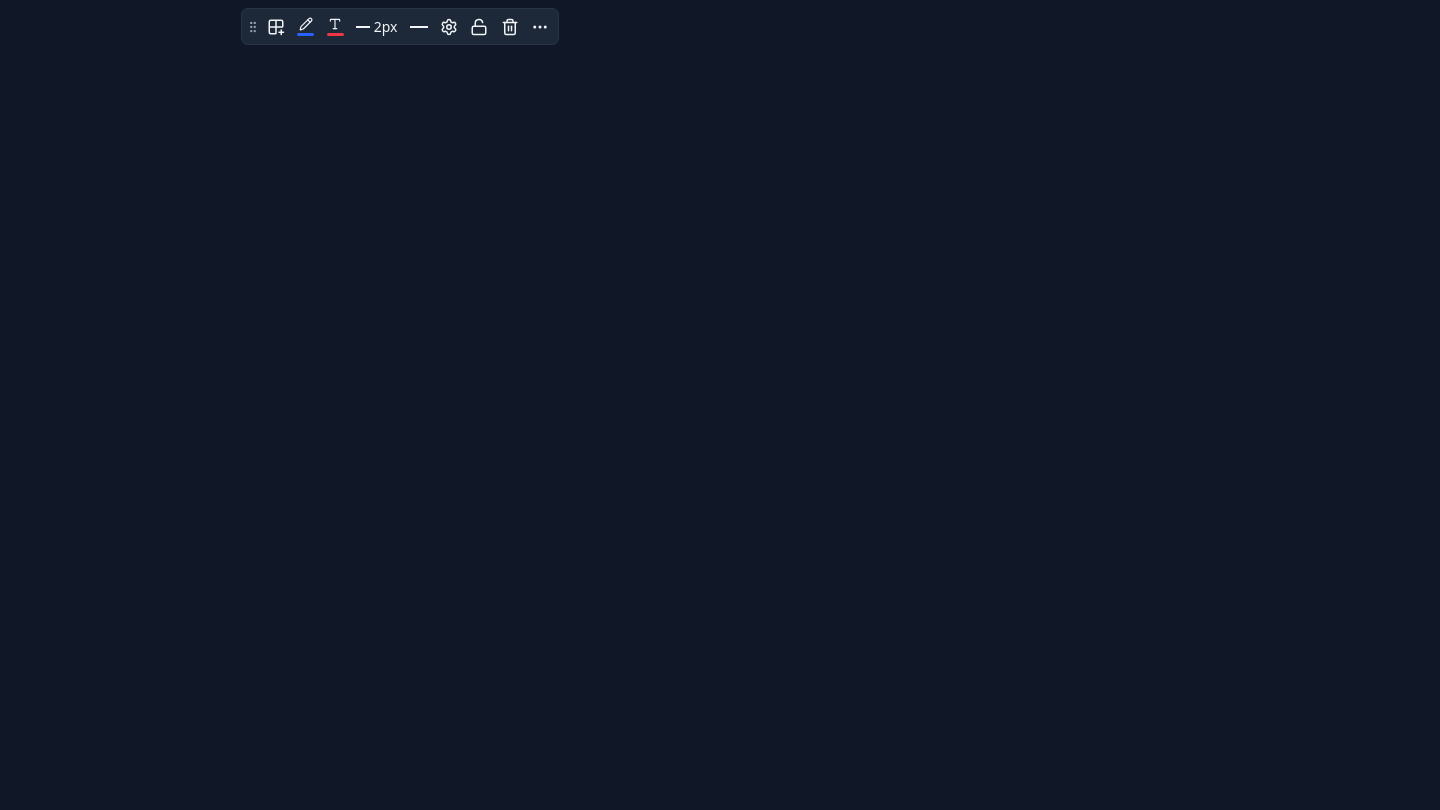
Test case: a drawing saved by the old version (note + palette color) opens with its text in the Text tab
The width and height of the screenshot is (1440, 810).
Click the button named "Settings".
click(449, 26)  # box [435, 12, 463, 40]
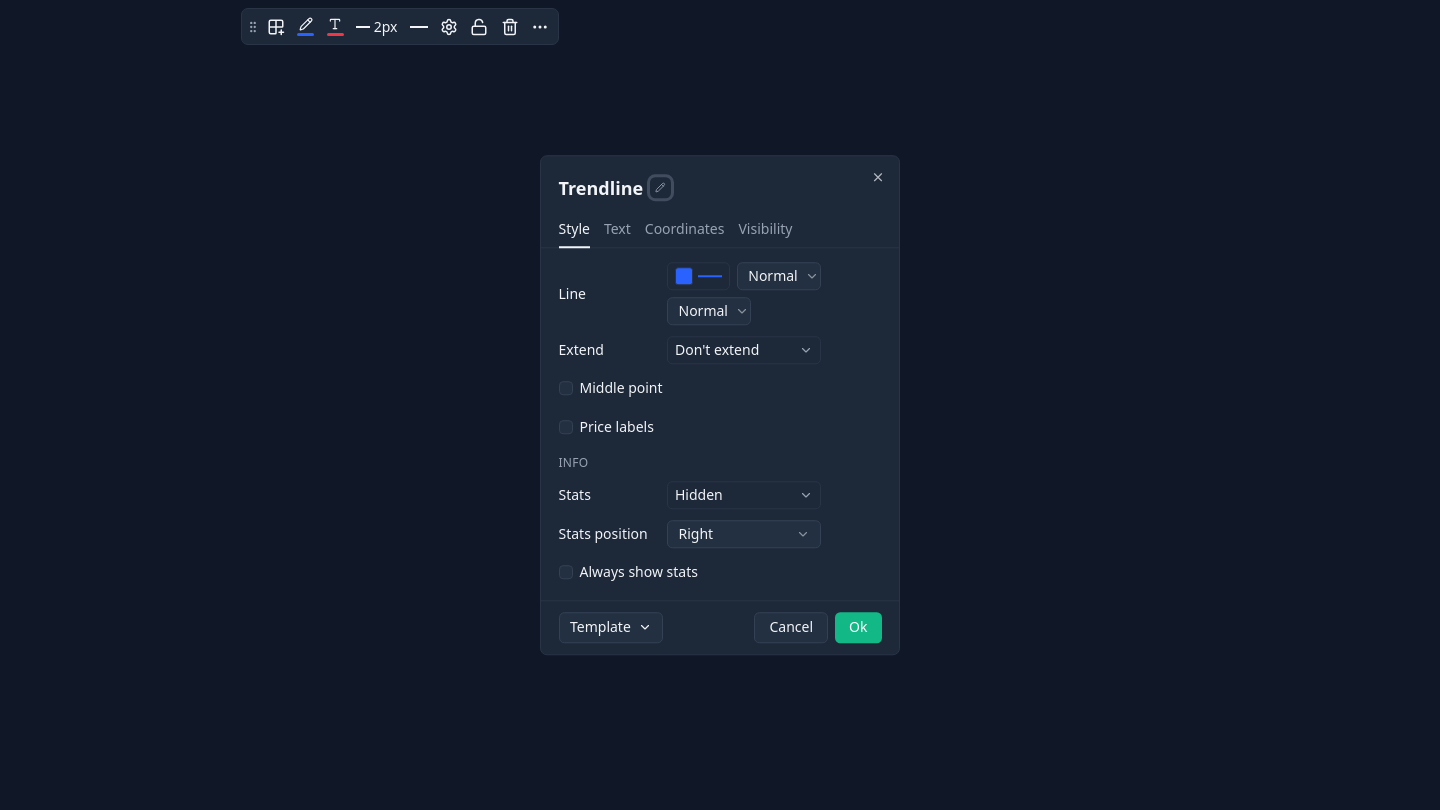
Click the tab "Text".
click(617, 230)  # box [604, 212, 631, 248]
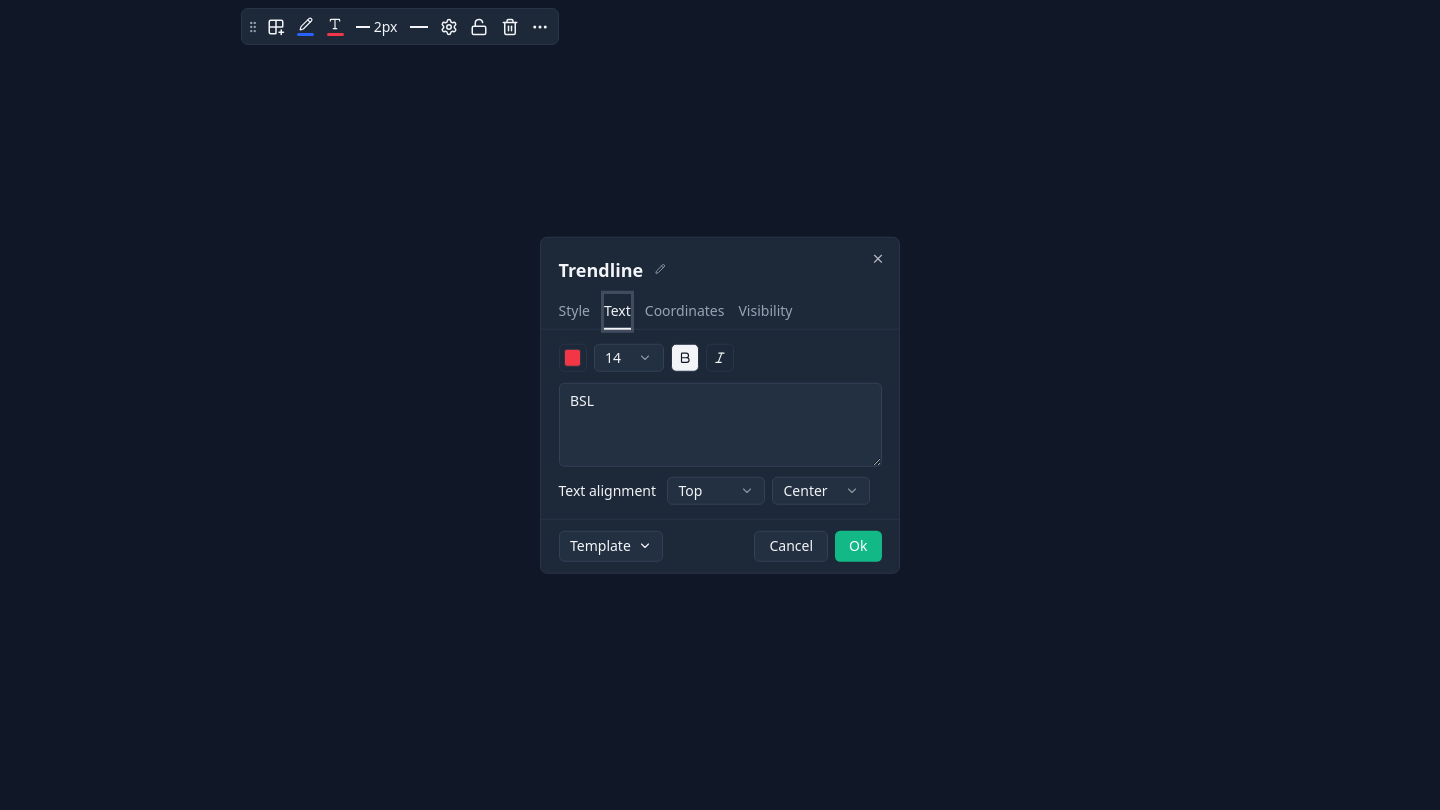
Check: the text box named "text" holds "BSL", box [558, 382, 882, 466]
